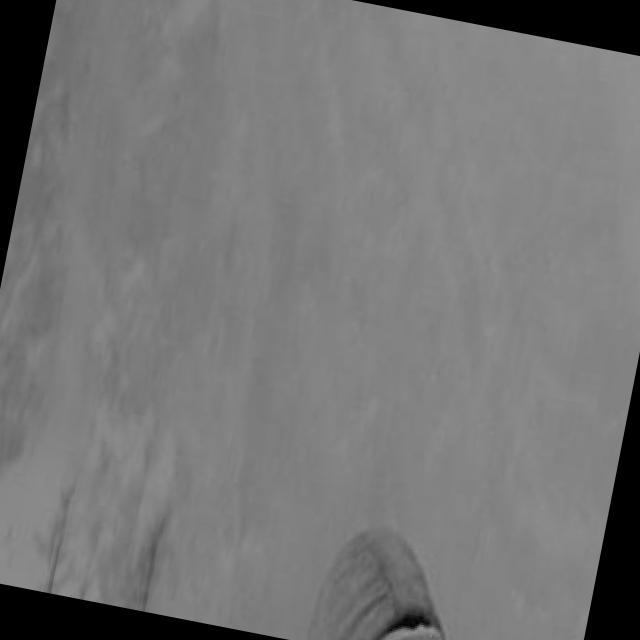Guns: (579, 332, 640, 613)
